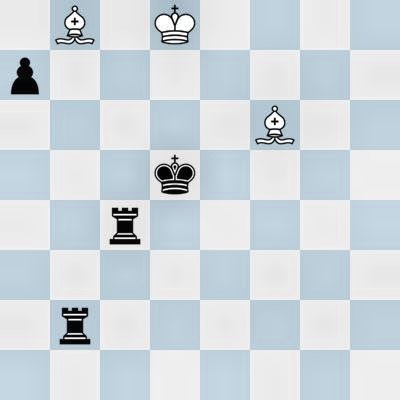black-king: (150, 150, 200, 200)
black-pawn: (0, 50, 50, 100)
black-rook: (100, 200, 150, 250), (50, 300, 100, 350)
white-bishop: (50, 0, 100, 50), (250, 100, 300, 150)
white-king: (150, 0, 200, 50)
